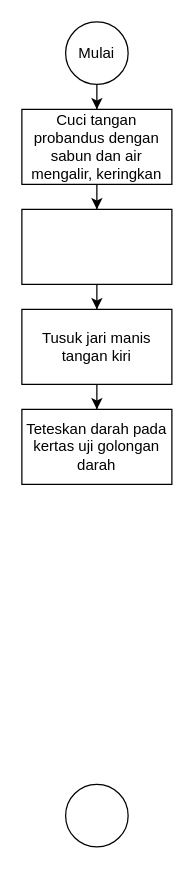
The diagram is 194 pixels wide and 869 high, and some of its shapes have lost their labels. The shapes that lost their labels are listed below. From the top down, each one's box as (x1, y1, x2, y2) in pixels, then its label:
(21, 208, 172, 284): Bersihkan jari manis tangan kiri dengan kapas alkohol
(64, 783, 128, 847): Selesai
